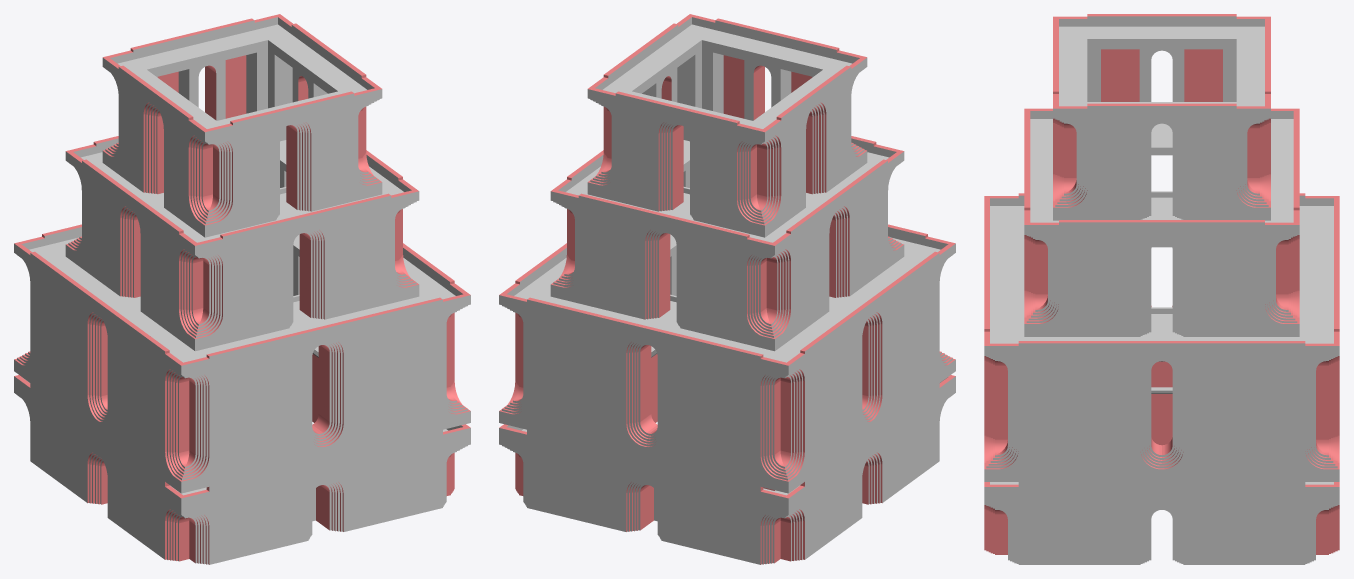
The picture shows the model from 3 angles, left to right: view 1: azimuth 30°, elevation 25°; view 2: azimuth 150°, elevation 25°; view 3: azimuth 270°, elevation 25°; orthographic projection. The views are drawn at different scales.
Visible parts, largest first — view 1: mass; view 2: mass; view 3: mass.
Part boxes in pixels (x1,y1,x2,y2): mass: (14, 14, 470, 564); mass: (499, 14, 955, 564); mass: (984, 14, 1339, 564).
Size of what is drawn, in the model's own units: 31 by 41.38 by 31.
